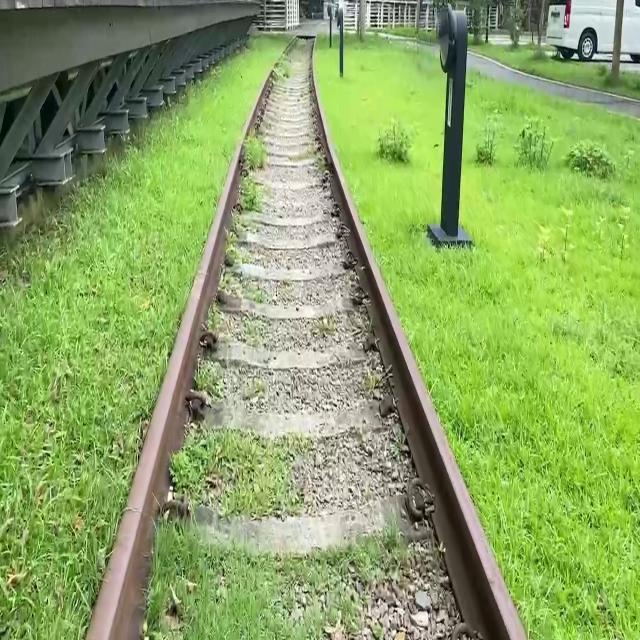rail: (64, 36, 560, 640)
